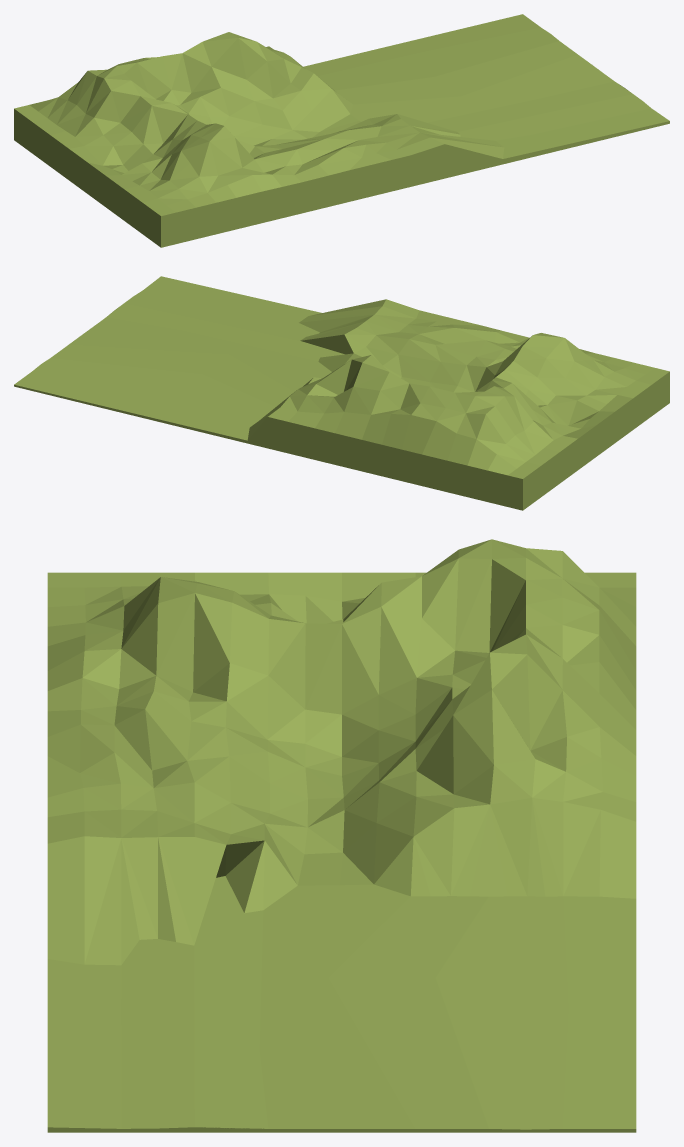
File: castleGrounds.glb
3 renders of one model, top to bottom at view 1: azimuth 30°, elevation 25°; view 2: azimuth 150°, elevation 25°; view 3: azimuth 270°, elevation 25°, orthographic. The views are drawn at different scales.
Parts seen in each view (by area): view 1: CastleGrounds.001; view 2: CastleGrounds.001; view 3: CastleGrounds.001.
Part boxes in pixels (x1=…): CastleGrounds.001: x1=14, y1=14, x2=669, y2=247; CastleGrounds.001: x1=14, y1=276, x2=669, y2=510; CastleGrounds.001: x1=47, y1=539, x2=636, y2=1132.
Bounding box in the file's own units: 32 × 5 × 16.
